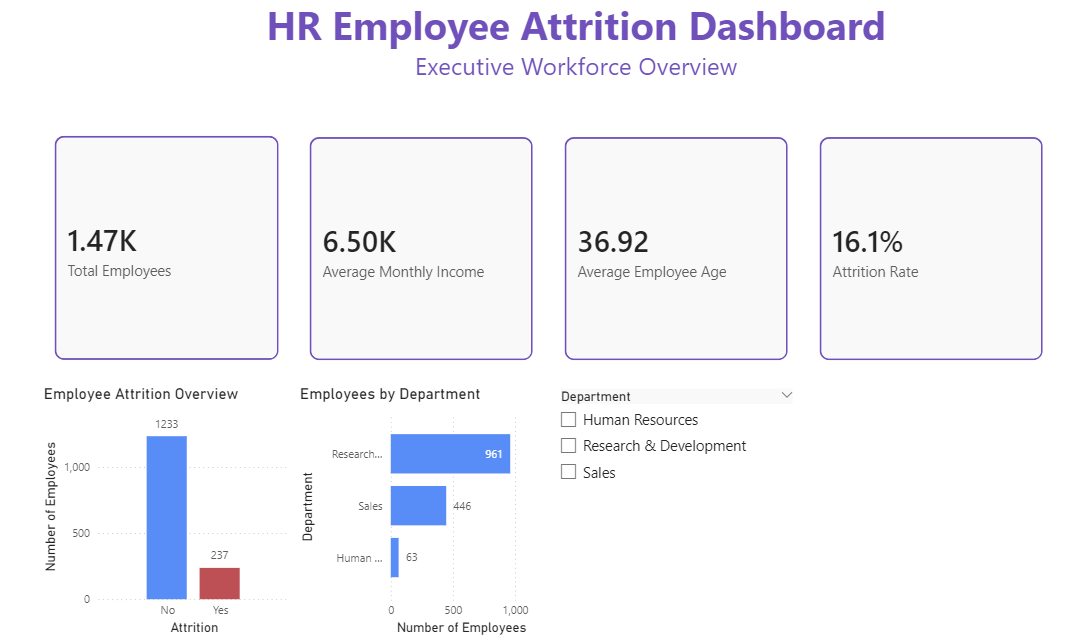

The dashboard page shown, as its layout file describes it:
{"tool":"powerbi","page":{"name":"Executive Overview","canvas":[1280,720],"ordinal":0},"visuals":[{"type":"cardVisual","fields":{"Data":["CountNonNull(clean_employee_attrition.EmployeeNumber)"]},"box":[50.6,140.5,280,280],"z":0},{"type":"cardVisual","fields":{"Data":["Avg(clean_employee_attrition.MonthlyIncome)"]},"box":[331,140.8,279.9,279.9],"z":1000},{"type":"cardVisual","fields":{"Data":["Avg(clean_employee_attrition.Age)"]},"box":[610.9,140.8,279.9,279.9],"z":2000},{"type":"cardVisual","fields":{"Data":["clean_employee_attrition.Attrition Rate"]},"box":[890.8,140.8,279.9,279.9],"z":3000},{"type":"clusteredColumnChart","title":"Employee Attrition Overview","fields":{"Category":["clean_employee_attrition.Attrition"],"Y":["CountNonNull(clean_employee_attrition.EmployeeNumber)"]},"box":[50.4,430,280,280],"z":4000},{"type":"clusteredBarChart","title":"Employees by Department","fields":{"Category":["clean_employee_attrition.Department"],"Y":["CountNonNull(clean_employee_attrition.EmployeeNumber)"]},"box":[331.4,430,280,280],"z":5000},{"type":"slicer","fields":{"Values":["clean_employee_attrition.Department"]},"box":[610.9,430.1,279.9,279.9],"z":6000},{"type":"textbox","box":[0,0,1280.3,141.3],"z":7000}]}

Visuals, with their boxes on the page's 1280x720 design canvas (x1, y1, x2, y2). These are canvas units, not pixel positions in the 1092x642 screenshot, which may show the page scaled, cropped or inside an application window:
cardVisual - CountNonNull(clean_employee_attrition.EmployeeNumber): {"left": 51, "top": 140, "right": 331, "bottom": 420}
cardVisual - Avg(clean_employee_attrition.MonthlyIncome): {"left": 331, "top": 141, "right": 611, "bottom": 421}
cardVisual - Avg(clean_employee_attrition.Age): {"left": 611, "top": 141, "right": 891, "bottom": 421}
cardVisual - clean_employee_attrition.Attrition Rate: {"left": 891, "top": 141, "right": 1171, "bottom": 421}
"Employee Attrition Overview" clusteredColumnChart: {"left": 50, "top": 430, "right": 330, "bottom": 710}
"Employees by Department" clusteredBarChart: {"left": 331, "top": 430, "right": 611, "bottom": 710}
slicer - clean_employee_attrition.Department: {"left": 611, "top": 430, "right": 891, "bottom": 710}
textbox: {"left": 0, "top": 0, "right": 1280, "bottom": 141}
